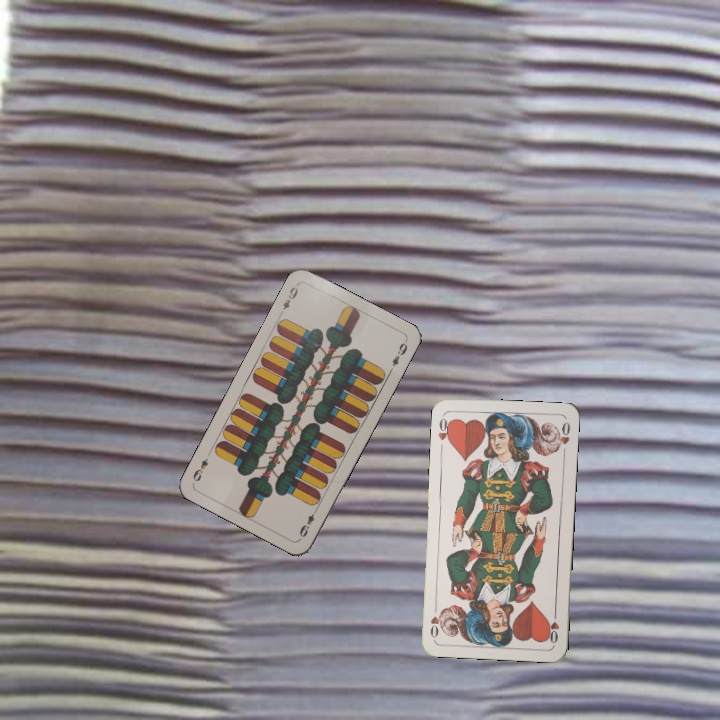E9: (276, 280, 301, 317), (295, 504, 320, 540)
HO: (544, 606, 562, 646), (434, 411, 454, 446)
